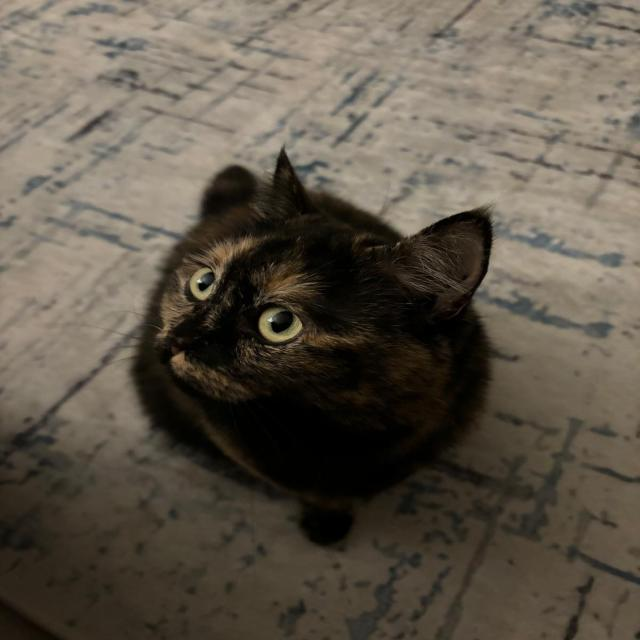authorized: (116, 142, 498, 548)
